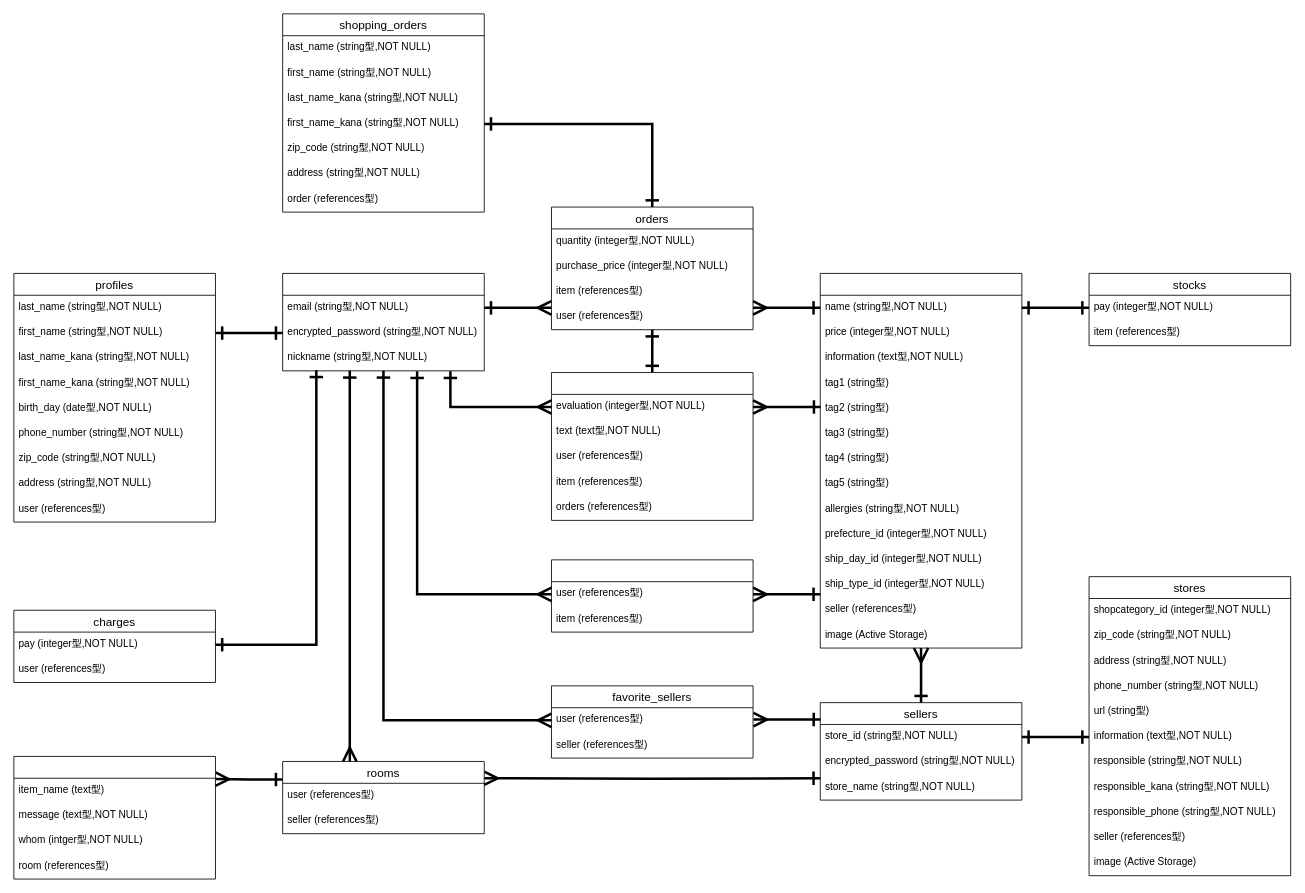
Some shapes in this 1305 by 893 pixel diagram are drawn without their labels. Each missing label, with the box of its shape:
favorite_items: (551, 559, 753, 632)
items: (819, 273, 1022, 648)
messages: (13, 756, 215, 879)
reviews: (551, 372, 753, 520)
users: (282, 273, 484, 371)
